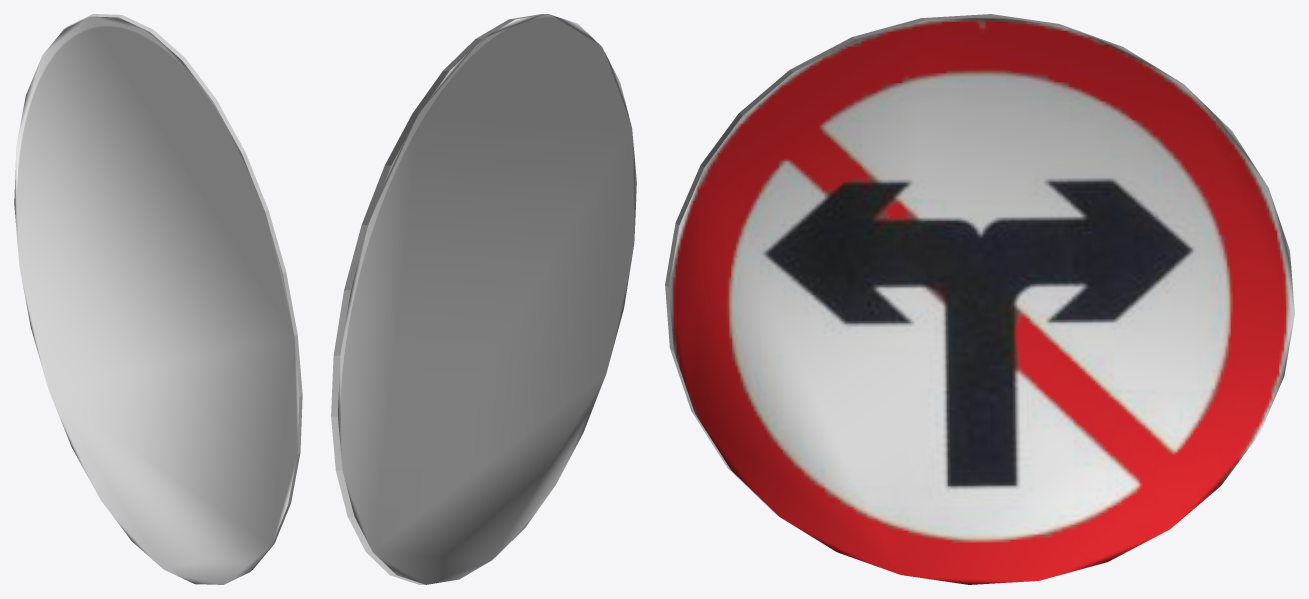
The picture shows the model from 3 angles, left to right: view 1: azimuth 30°, elevation 25°; view 2: azimuth 150°, elevation 25°; view 3: azimuth 270°, elevation 25°; orthographic projection. The views are drawn at different scales.
Visible parts, largest first — view 1: model24; view 2: model24; view 3: model24.
Part boxes in pixels (box(x1,y1,x2,y2)): model24: box(14, 14, 302, 584); model24: box(331, 14, 636, 584); model24: box(665, 14, 1294, 584).
Bounding box in the file's own units: 0.0278 × 1.19 × 1.19.
Materials: 3 (2 with a texture image).
